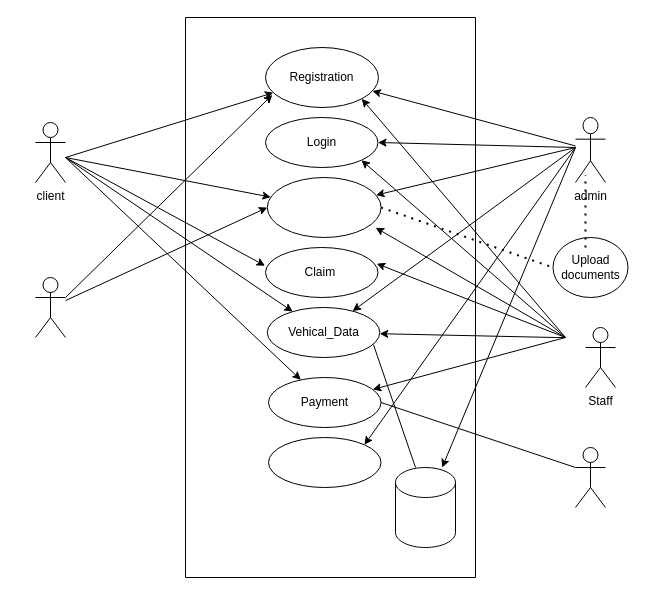
The diagram is 655 pixels wide and 595 high, and some of its shapes have lost their labels. Here are the shapes that lost their labels. From the top down, the centre of each, then its label:
(323,207): Veiw_Policy
(50,307): other parties
(324,462): Setting
(590,477): payment gateway
(425,507): Database
